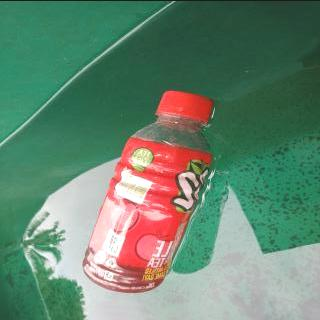bottle: (82, 90, 215, 292)
